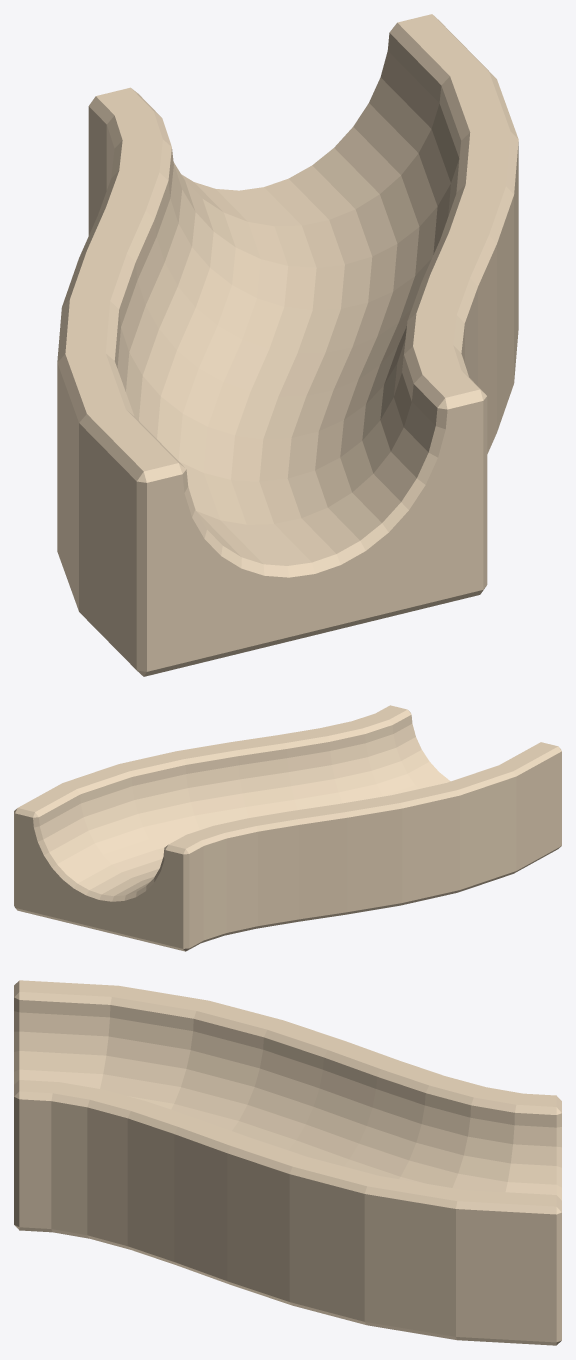
Rendered from track_curve_a02.glb.
3 views of the same model, one above another, from view 1: azimuth 30°, elevation 25°; view 2: azimuth 150°, elevation 25°; view 3: azimuth 270°, elevation 25° (orthographic). The views are drawn at different scales.
Parts seen in each view (by area): view 1: Curve; view 2: Curve; view 3: Curve.
Boxes of the visible parts, <box> form: Curve: <box>57,14,518,676</box>; Curve: <box>14,705,561,951</box>; Curve: <box>14,980,561,1345</box>.
Bounding box in the file's own units: 3.99 × 1.12 × 4.
